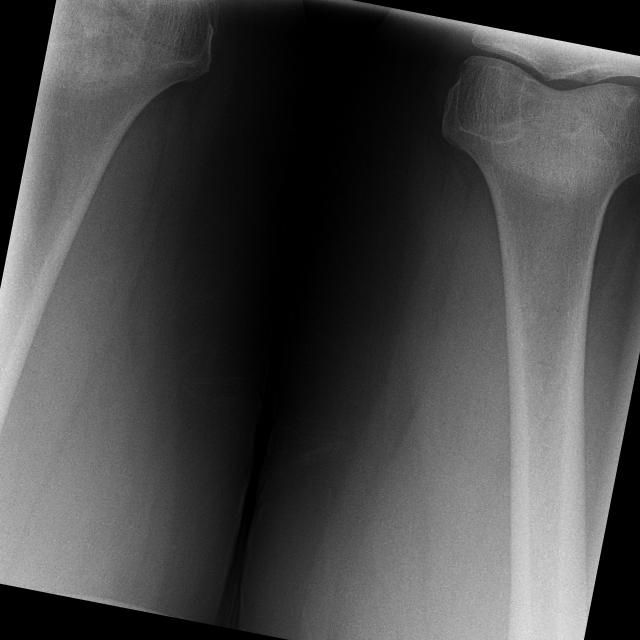Knee: (434, 22, 640, 186), (44, 0, 233, 102)
